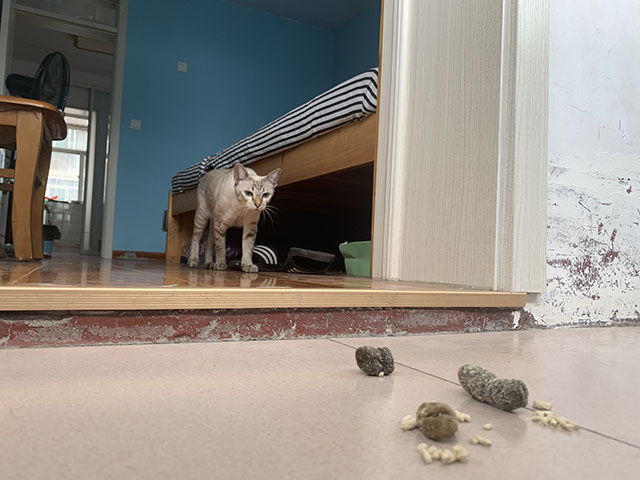bed: (164, 1, 384, 280)
feces: (457, 363, 530, 413), (415, 401, 458, 442), (354, 345, 396, 378)
slippers: (227, 238, 286, 275)
stool: (1, 92, 68, 263)
trashcan: (42, 224, 62, 256)
